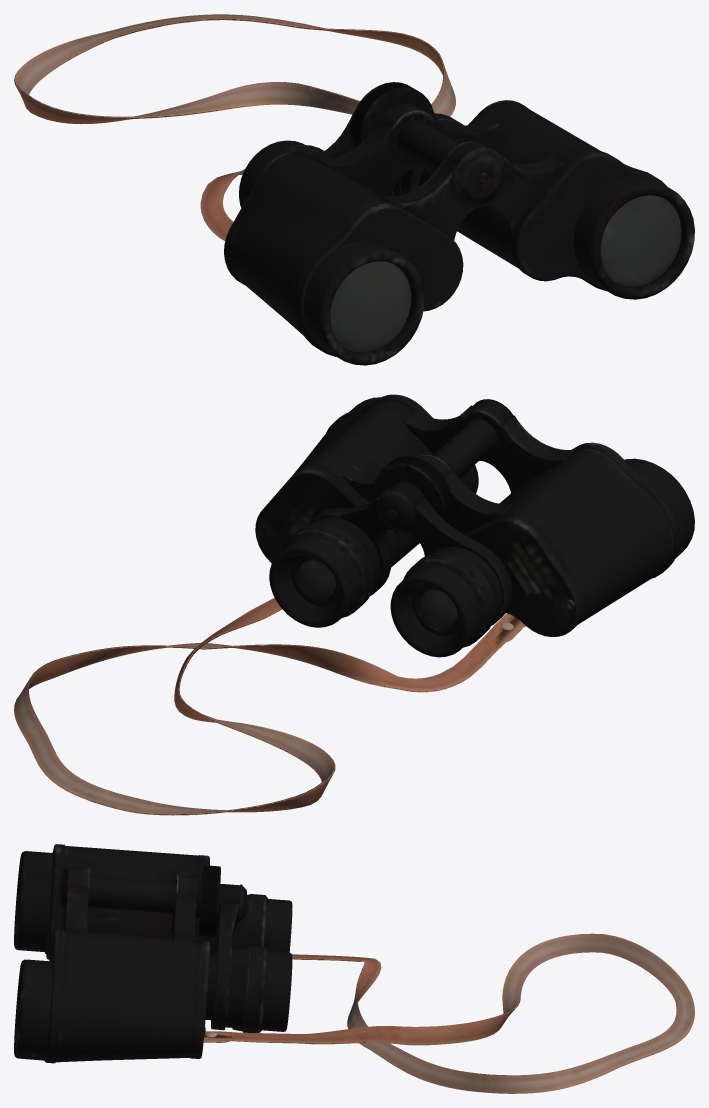
File: binoculars.glb
The picture shows the model from 3 angles, top to bottom: view 1: azimuth 30°, elevation 25°; view 2: azimuth 150°, elevation 25°; view 3: azimuth 270°, elevation 25°; orthographic projection. The views are drawn at different scales.
Visible parts, largest first — view 1: binoculars_left, binoculars_strap; view 2: binoculars_left, binoculars_strap; view 3: binoculars_left, binoculars_strap.
Part boxes in pixels (bbox=[...]): binoculars_left: bbox=[224, 82, 694, 365]; binoculars_strap: bbox=[14, 14, 455, 240]; binoculars_left: bbox=[255, 394, 694, 657]; binoculars_strap: bbox=[14, 597, 525, 815]; binoculars_left: bbox=[14, 844, 292, 1063]; binoculars_strap: bbox=[203, 933, 694, 1093].
Size of the model in its own units: 0.1669 by 0.0663 by 0.2879.
Materials: 2 (2 with a texture image).
